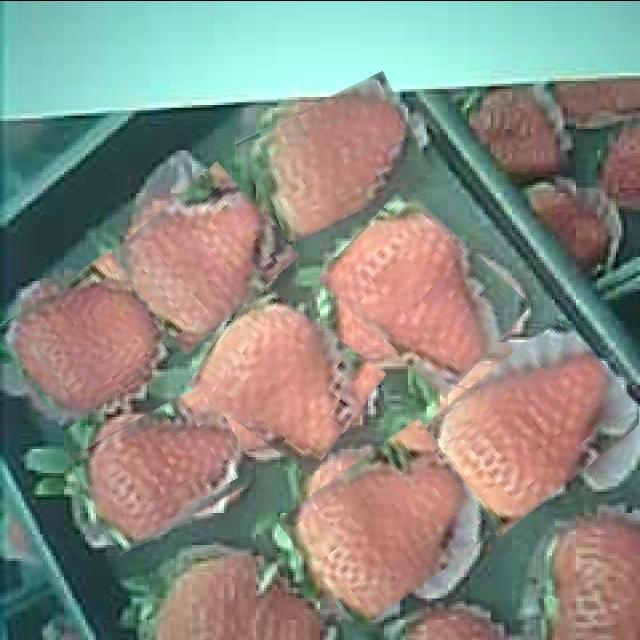strawberry: (424, 334, 636, 514), (288, 436, 488, 612), (326, 206, 522, 376), (196, 298, 375, 459), (115, 176, 288, 336), (242, 84, 424, 230), (4, 263, 169, 416), (74, 396, 250, 538)
